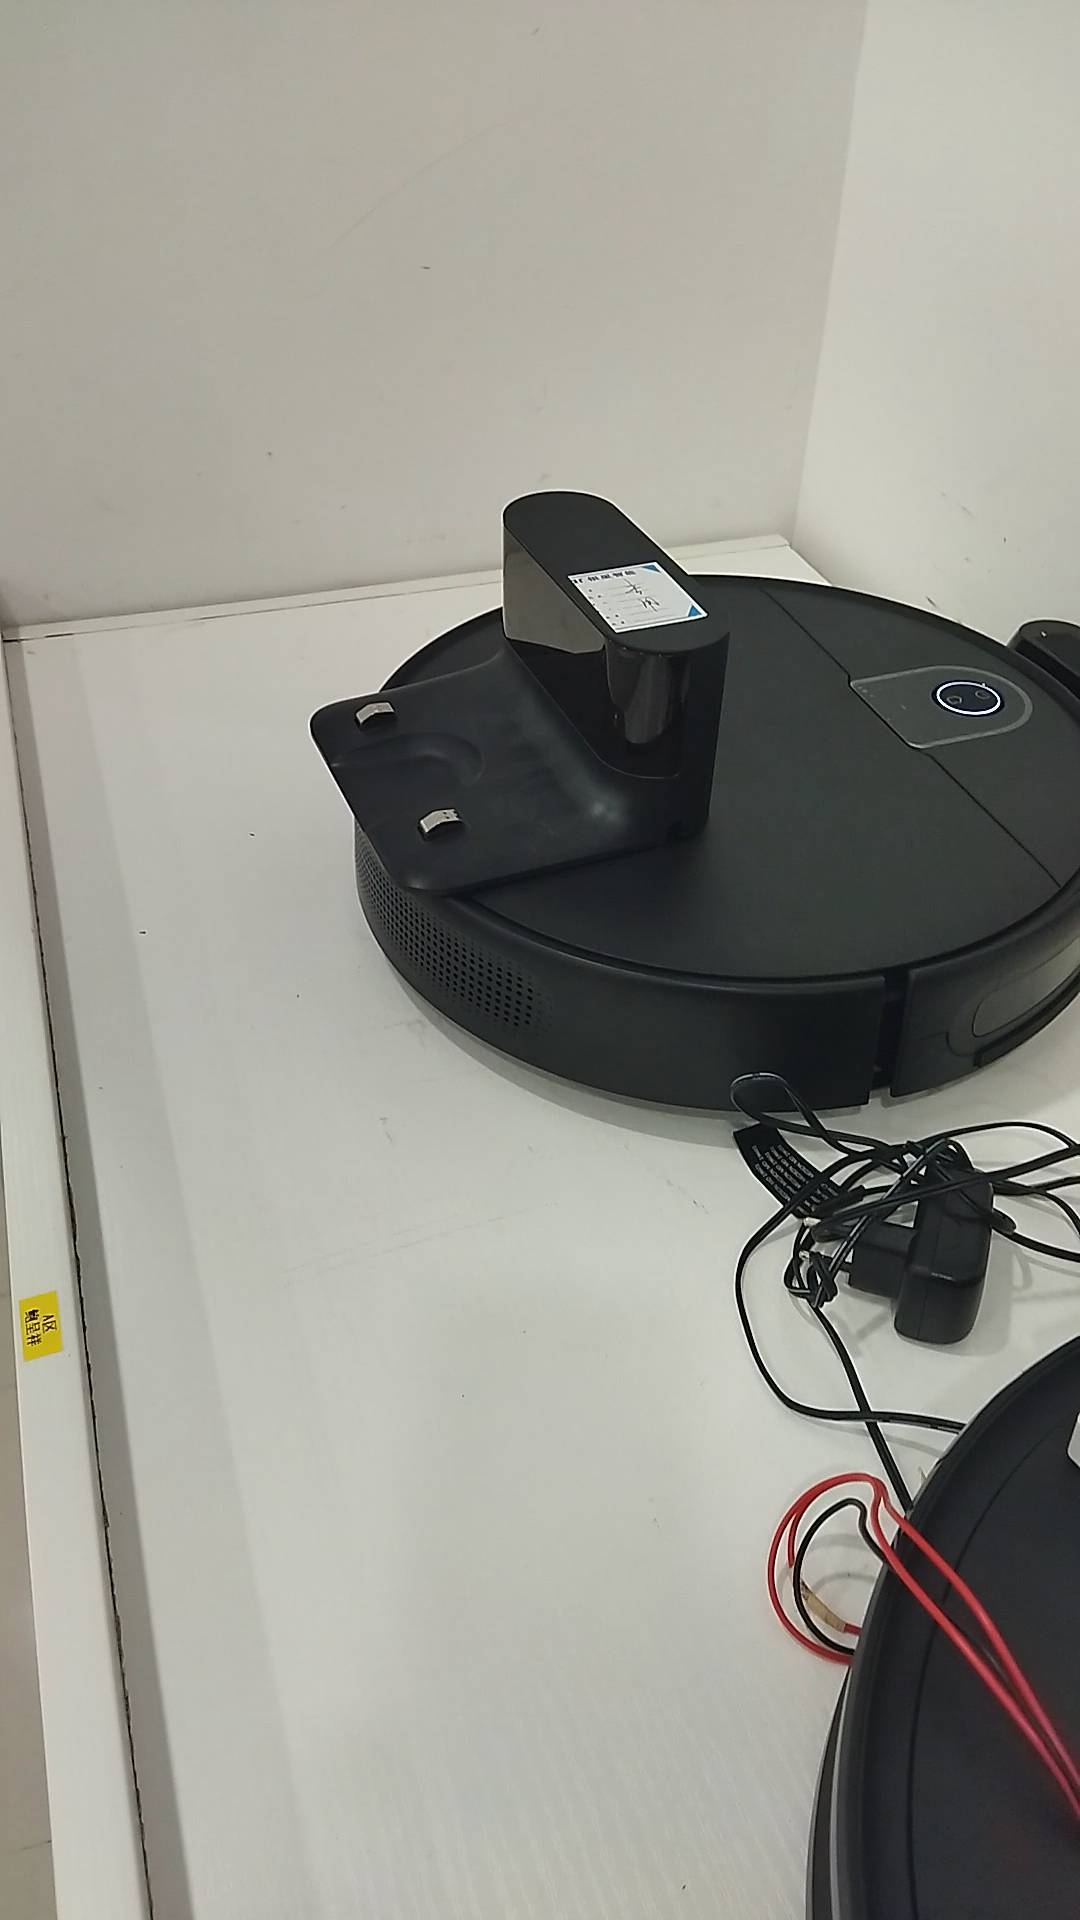recharge seat: (309, 492, 731, 891)
